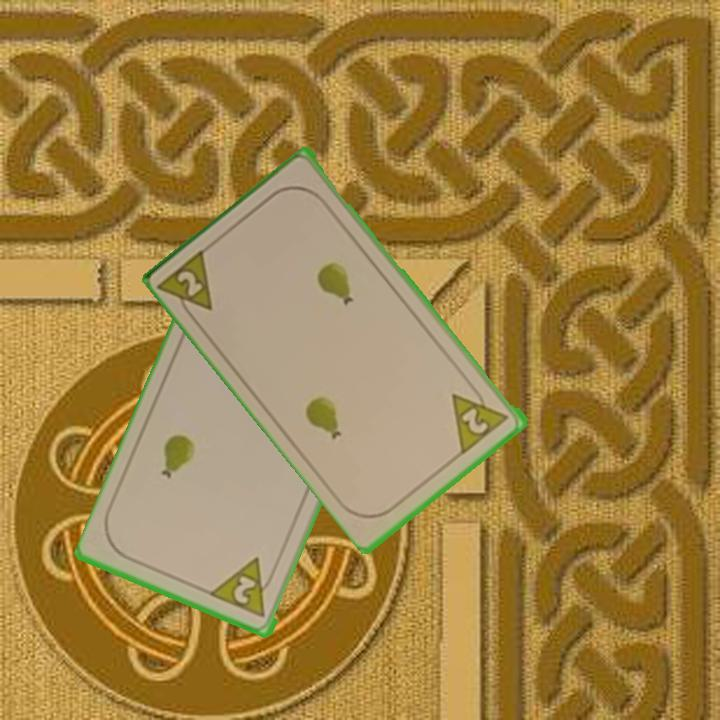2p: (156, 244, 217, 327), (448, 379, 512, 456), (230, 573, 260, 608)
